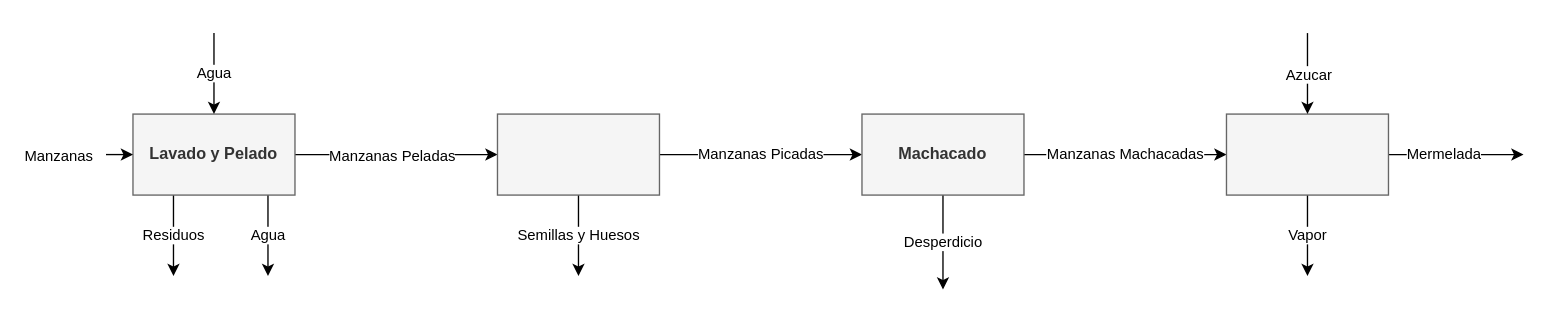
Image size: 1558x324. Some labels were removed from this diagram. The centre of each missing label's shape, as x and y in pixels:
"Picado" goes at point 577,154.
"Reduccion" goes at point 1306,154.
